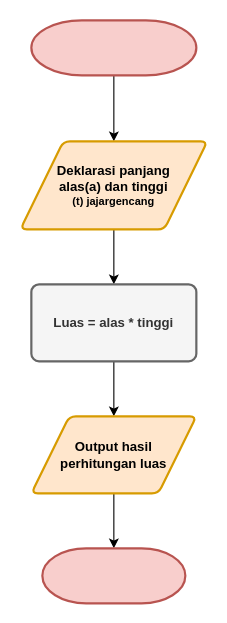
Image size: 227x623. Some labels were removed from this diagram. The box of each missing label's shape, as (x1, y1, x2, y2) in pixels:
Finish: (41, 547, 186, 604)
Start: (30, 19, 197, 76)
